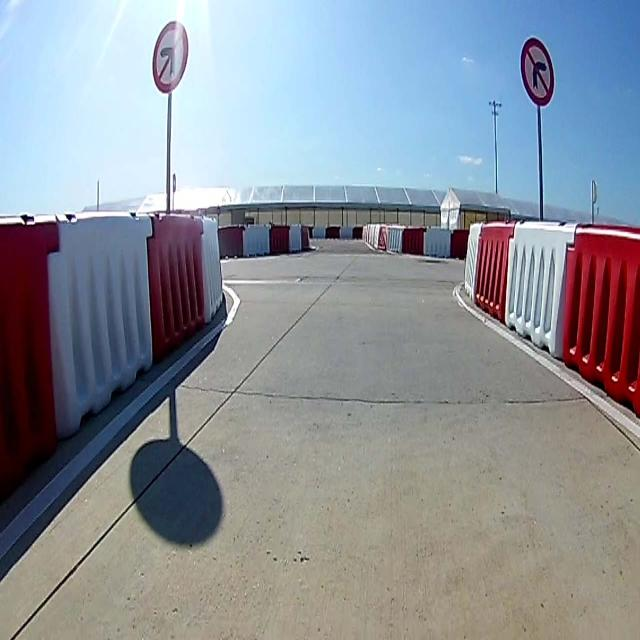sagadonulmez: (518, 40, 556, 104)
soladonulmez: (152, 23, 188, 88)
